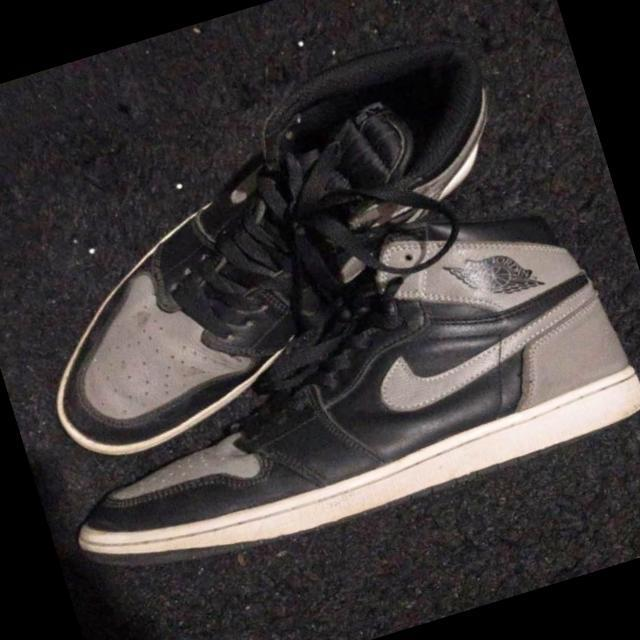nike fake jordan 1: (11, 166, 640, 598), (0, 22, 566, 476)
